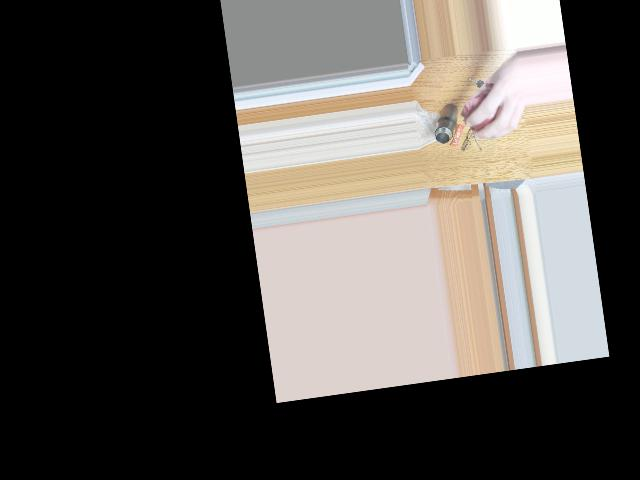onion: (464, 88, 501, 135)
